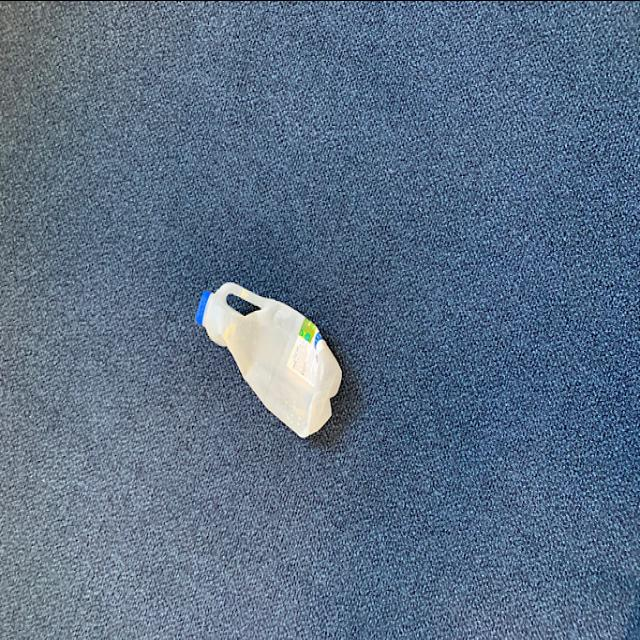litter: (193, 273, 347, 437)
